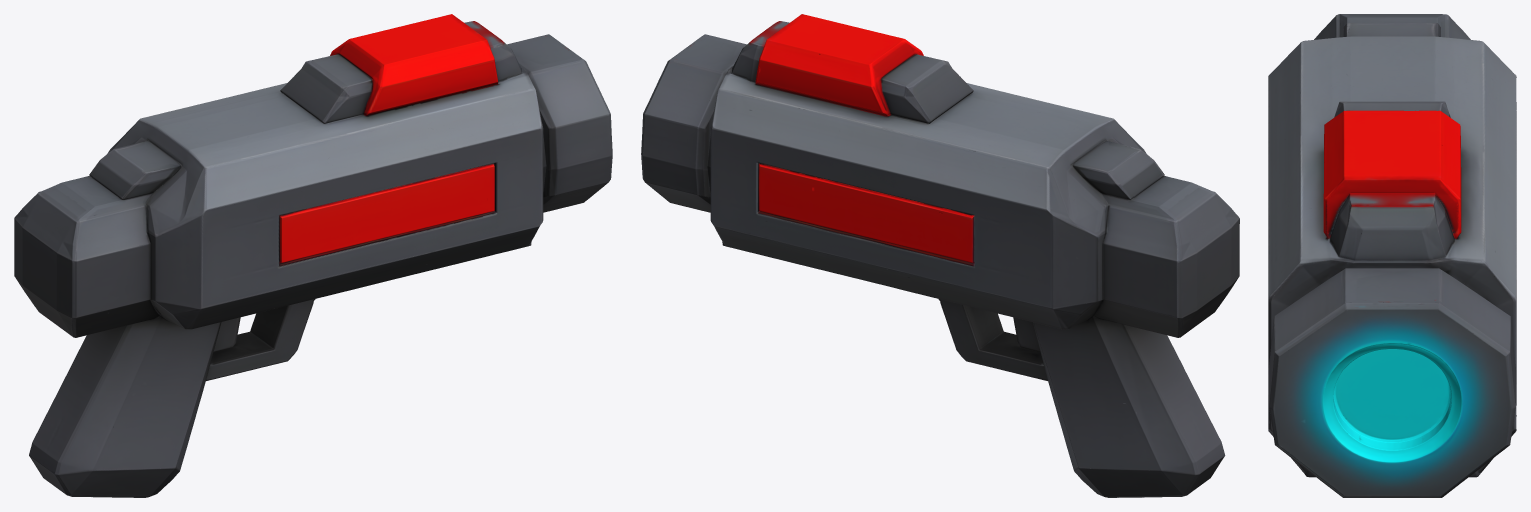
The model's file is model_glb.glb.
3 renders of one model, left to right at view 1: azimuth 30°, elevation 25°; view 2: azimuth 150°, elevation 25°; view 3: azimuth 270°, elevation 25°, orthographic. The views are drawn at different scales.
Visible parts, largest first — view 1: node_0; view 2: node_0; view 3: node_0.
Part boxes in pixels (bbox=[...]): node_0: bbox=[14, 14, 612, 497]; node_0: bbox=[641, 14, 1239, 497]; node_0: bbox=[1268, 14, 1516, 497].
Size of the model in its own units: 1.06 by 0.7287 by 0.3154.
1 material, 1 textured.
